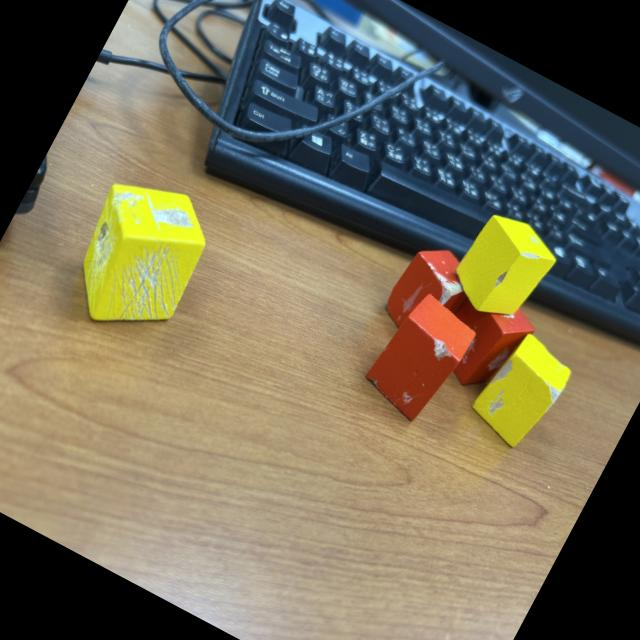broken: (52, 162, 225, 352), (355, 284, 482, 430), (442, 204, 566, 332), (462, 324, 578, 456), (425, 278, 542, 402), (376, 235, 481, 350)
